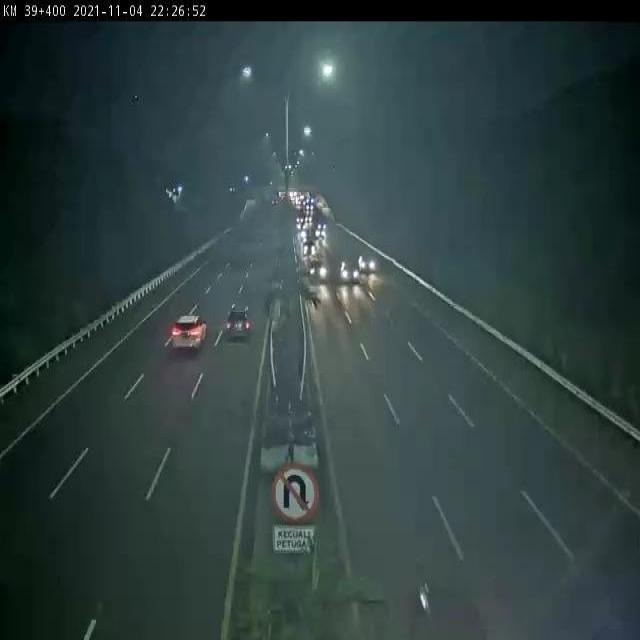car: (170, 317, 206, 351), (226, 307, 252, 344)
